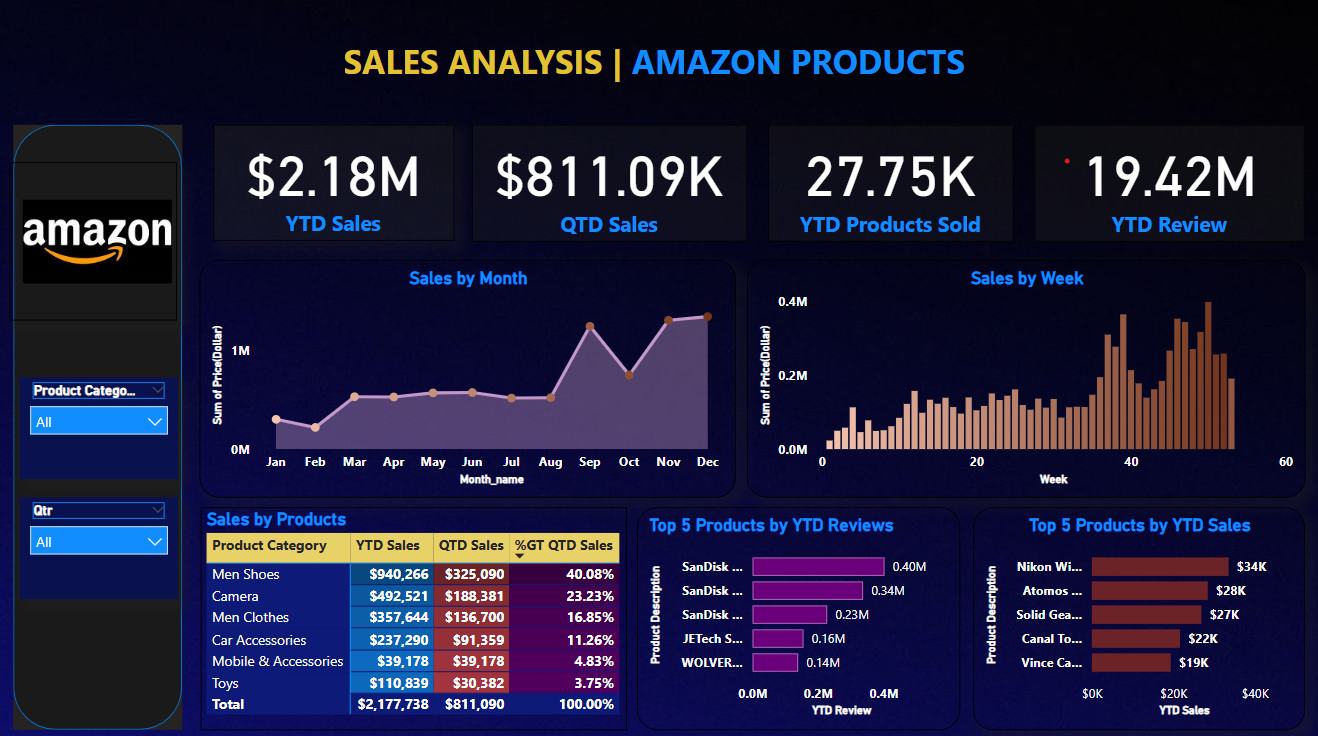

The dashboard page shown, as its layout file describes it:
{"tool":"powerbi","page":{"name":"Page 1","canvas":[1280,720],"ordinal":0},"visuals":[{"type":"shape","box":[15.9,124.1,163,584.3],"z":0},{"type":"textbox","box":[329.3,35.6,672.8,64.1],"z":1000},{"type":"card","fields":{"Values":["Amazon_Data.YTD Review"]},"box":[1001.3,124.1,261.1,112.5],"z":2000},{"type":"card","fields":{"Values":["Amazon_Data.YTD Products Sold"]},"box":[744.5,124.1,236.6,112.5],"z":3000},{"type":"card","fields":{"Values":["Amazon_Data.QTD Sales"]},"box":[458.8,124.1,265.5,112.5],"z":4000},{"type":"card","fields":{"Values":["Amazon_Data.YTD Sales"]},"box":[208.7,124.3,232.8,112.2],"z":5000},{"type":"areaChart","title":"Sales by Month","fields":{"Y":["Sum(Amazon_Data.Price(Dollar))"],"Category":["Date Table.Month_name"]},"box":[195.8,254.5,517.9,229.6],"z":6000},{"type":"columnChart","title":"Sales by Week","fields":{"Category":["Date Table.Week"],"Y":["Sum(Amazon_Data.Price(Dollar))"]},"box":[724.4,254.5,539.3,229.6],"z":7000},{"type":"pivotTable","title":"Sales by Products","fields":{"Rows":["Amazon_Data.Product Category"],"Values":["Amazon_Data.YTD Sales","Amazon_Data.QTD Sales1","Amazon_Data.QTD Sales"]},"box":[196.2,493.4,411.2,215],"z":8000},{"type":"clusteredBarChart","title":"Top 5 Products by YTD Sales","fields":{"Category":["Amazon_Data.Product Description"],"Y":["Amazon_Data.YTD Sales"]},"box":[942.1,493.4,320.3,215],"z":9000},{"type":"clusteredBarChart","title":"Top 5 Products by YTD Reviews","fields":{"Category":["Amazon_Data.Product Description"],"Y":["Amazon_Data.YTD Review"]},"box":[617.5,493.4,311.6,215],"z":10000},{"type":"slicer","fields":{"Values":["Amazon_Data.Product Category"]},"box":[21.6,367.9,152.9,98.1],"z":11000},{"type":"slicer","fields":{"Values":["Date Table.Qtr"]},"box":[21.6,483.3,152.9,98.1],"z":12000},{"type":"image","box":[12.5,160.2,162,153.1],"z":13000},{"type":"image","box":[5.3,192.2,183.3,90.8],"z":14000}]}

Visuals, with their boxes in screenshot pixels (x1, y1, x2, y2), scaled from the page's 1280x720 canvas onto the 1318x736 screenshot:
shape: locate(16, 127, 184, 724)
textbox: locate(339, 36, 1032, 102)
card - Amazon_Data.YTD Review: locate(1031, 127, 1300, 242)
card - Amazon_Data.YTD Products Sold: locate(767, 127, 1010, 242)
card - Amazon_Data.QTD Sales: locate(472, 127, 746, 242)
card - Amazon_Data.YTD Sales: locate(215, 127, 455, 242)
"Sales by Month" areaChart: locate(202, 260, 735, 495)
"Sales by Week" columnChart: locate(746, 260, 1301, 495)
"Sales by Products" pivotTable: locate(202, 504, 625, 724)
"Top 5 Products by YTD Sales" clusteredBarChart: locate(970, 504, 1300, 724)
"Top 5 Products by YTD Reviews" clusteredBarChart: locate(636, 504, 957, 724)
slicer - Amazon_Data.Product Category: locate(22, 376, 180, 476)
slicer - Date Table.Qtr: locate(22, 494, 180, 594)
image: locate(13, 164, 180, 320)
image: locate(5, 196, 194, 289)
